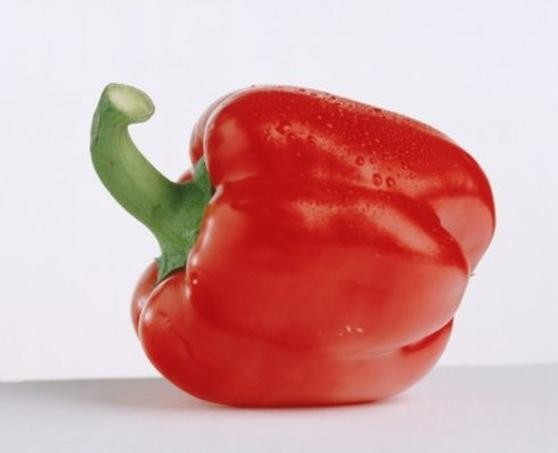pepper: (75, 71, 504, 409)
